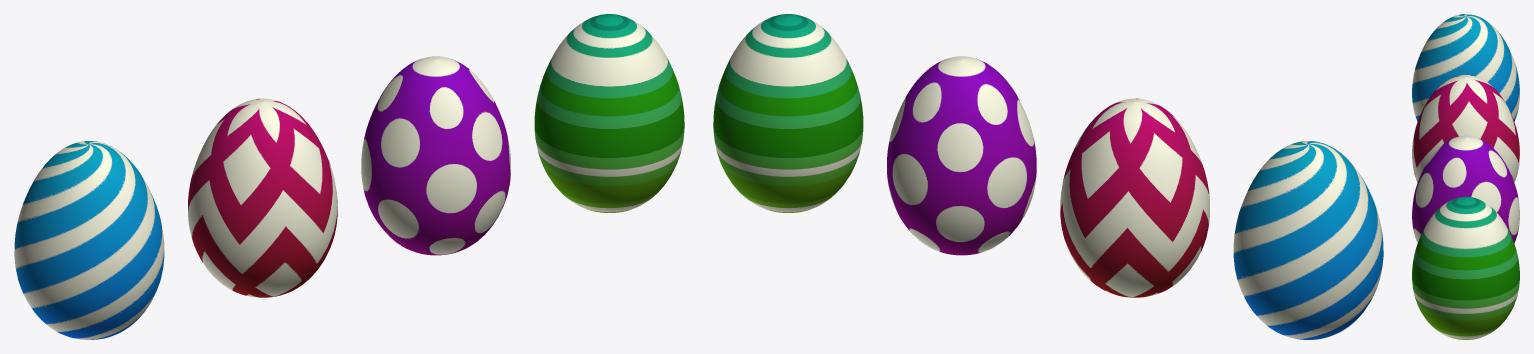
File: fbxhigh.fbx
3 views of the same model, side by side, from view 1: azimuth 30°, elevation 25°; view 2: azimuth 150°, elevation 25°; view 3: azimuth 270°, elevation 25° (orthographic). The views are drawn at different scales.
Visible parts, largest first — view 1: EGG1_Sphere.002, EGG2_Sphere, EGG3_Sphere.003, EGG4_Sphere.004; view 2: EGG1_Sphere.002, EGG2_Sphere, EGG3_Sphere.003, EGG4_Sphere.004; view 3: EGG1_Sphere.002, EGG4_Sphere.004, EGG3_Sphere.003, EGG2_Sphere.
Boxes of the visible parts, box(x1,y1,x2,y2) form: EGG1_Sphere.002: box(534, 14, 684, 212); EGG2_Sphere: box(361, 56, 510, 255); EGG3_Sphere.003: box(188, 98, 337, 297); EGG4_Sphere.004: box(14, 141, 164, 339); EGG1_Sphere.002: box(713, 14, 863, 212); EGG2_Sphere: box(887, 56, 1036, 255); EGG3_Sphere.003: box(1060, 98, 1209, 297); EGG4_Sphere.004: box(1233, 141, 1383, 339); EGG1_Sphere.002: box(1412, 196, 1519, 339); EGG4_Sphere.004: box(1412, 14, 1519, 121); EGG3_Sphere.003: box(1412, 75, 1519, 182); EGG2_Sphere: box(1412, 135, 1519, 243).
Size of the model in its own units: 1125 by 312 by 225.
